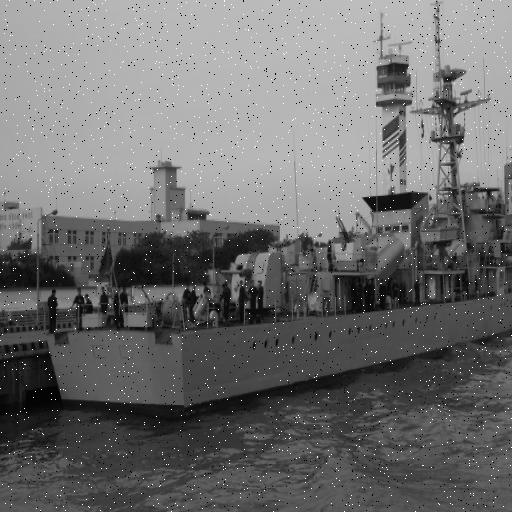Fragata: (35, 1, 512, 424)
